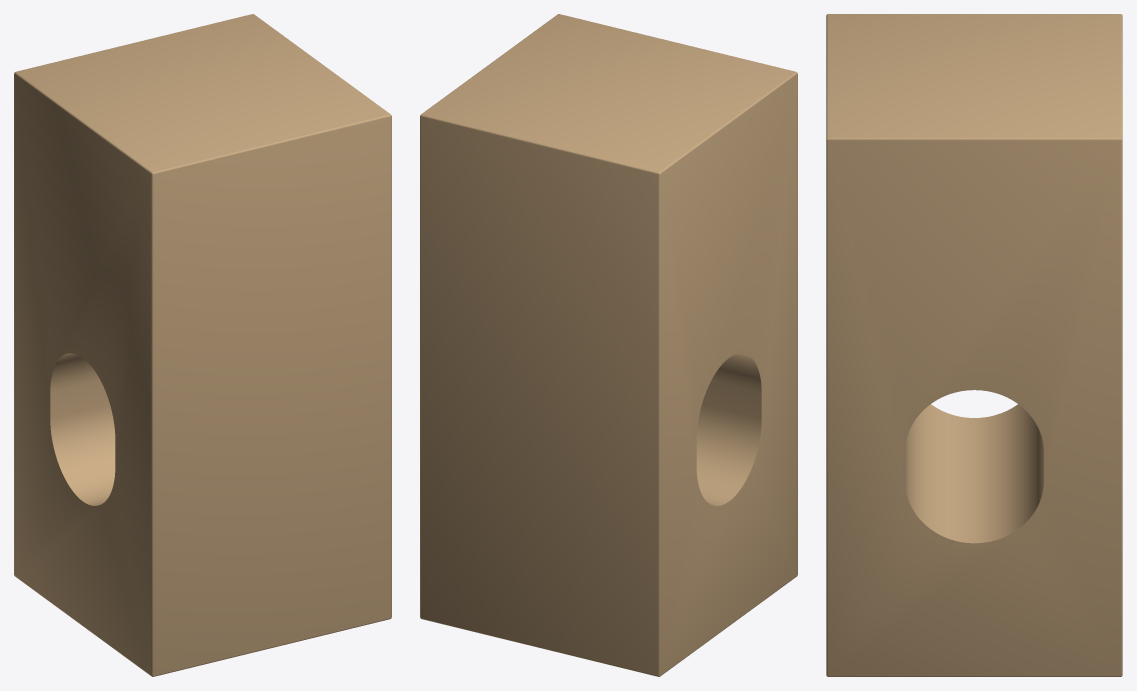
Rendered from mech_checkpoint_l2.glb.
3 renders of one model, left to right at view 1: azimuth 30°, elevation 25°; view 2: azimuth 150°, elevation 25°; view 3: azimuth 270°, elevation 25°, orthographic. The views are drawn at different scales.
Visible parts, largest first — view 1: mech_checkpoint_l2_lod0; view 2: mech_checkpoint_l2_lod0; view 3: mech_checkpoint_l2_lod0.
Boxes of the visible parts, x1,y1,x2,y2 form: mech_checkpoint_l2_lod0: (14,14,391,676); mech_checkpoint_l2_lod0: (420,14,797,676); mech_checkpoint_l2_lod0: (826,14,1122,676).
Size of what is drawn, in the model's own units: 0.0596 by 0.1196 by 0.0596.
